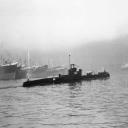submarine: (23, 55, 111, 88)
